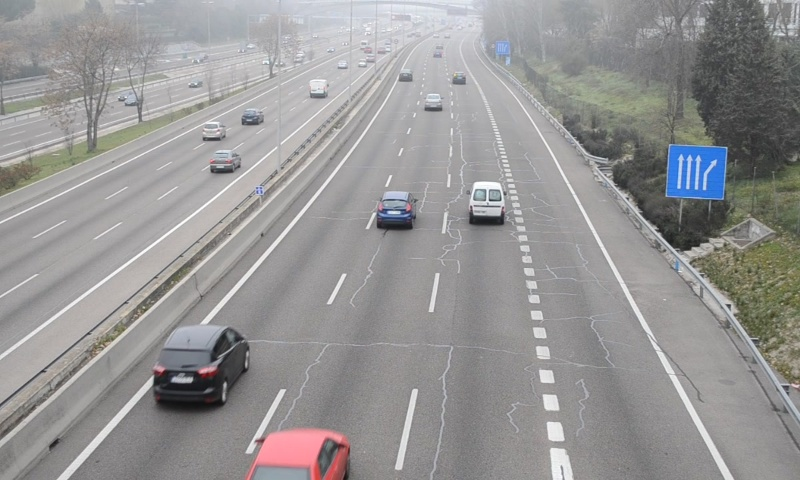car: (152, 325, 248, 404), (376, 192, 416, 227), (423, 94, 443, 112), (398, 67, 414, 82), (451, 70, 466, 85)
van: (469, 181, 505, 222)
